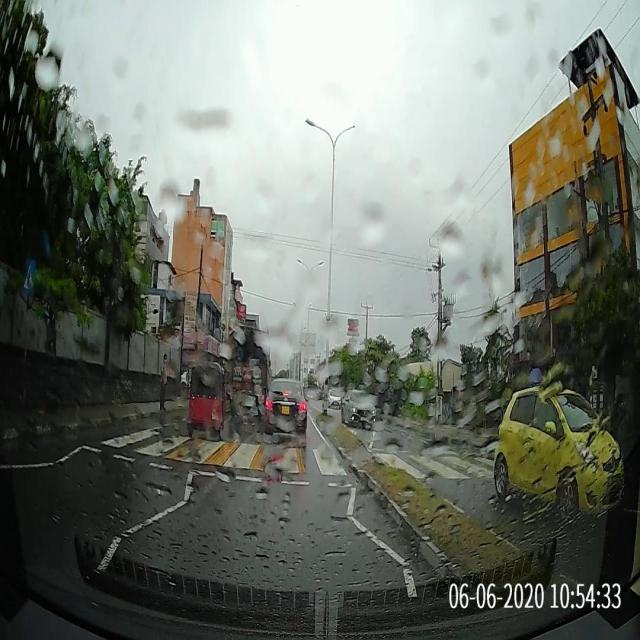Crosswalk: (97, 426, 494, 482)
